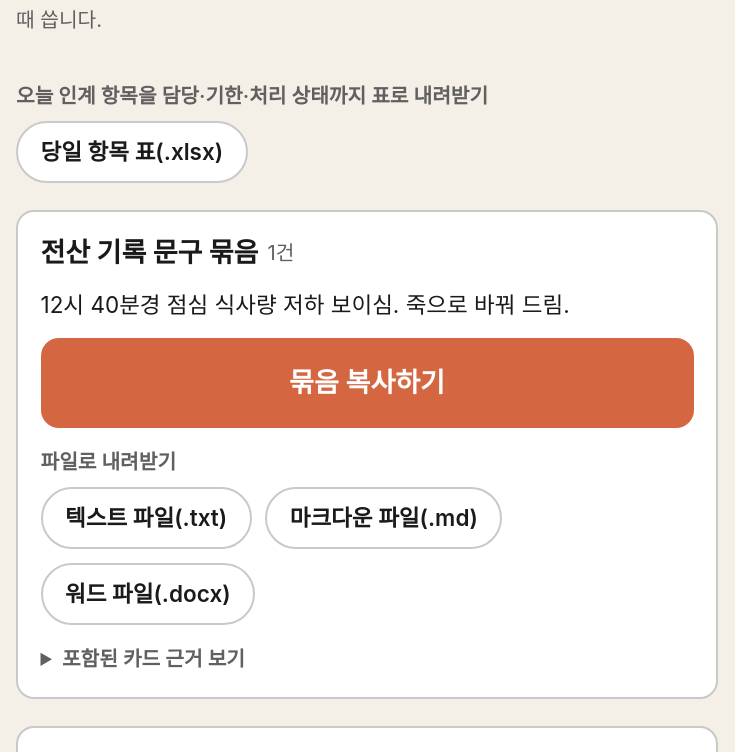
Test: 기록·보호자 전달 문구 화면 (n36~n40) › 어르신 당일 묶음을 함께 보여 주고 카드 문구와 따로 복사할 수 있다
(page scrolled)
Expected: the heading "전산 기록 문구 묶음" is shown, x1=40 y1=235 x2=258 y2=271
Click the button "묶음 복사하기". click: (367, 383)
box: x1=40 y1=338 x2=694 y2=428
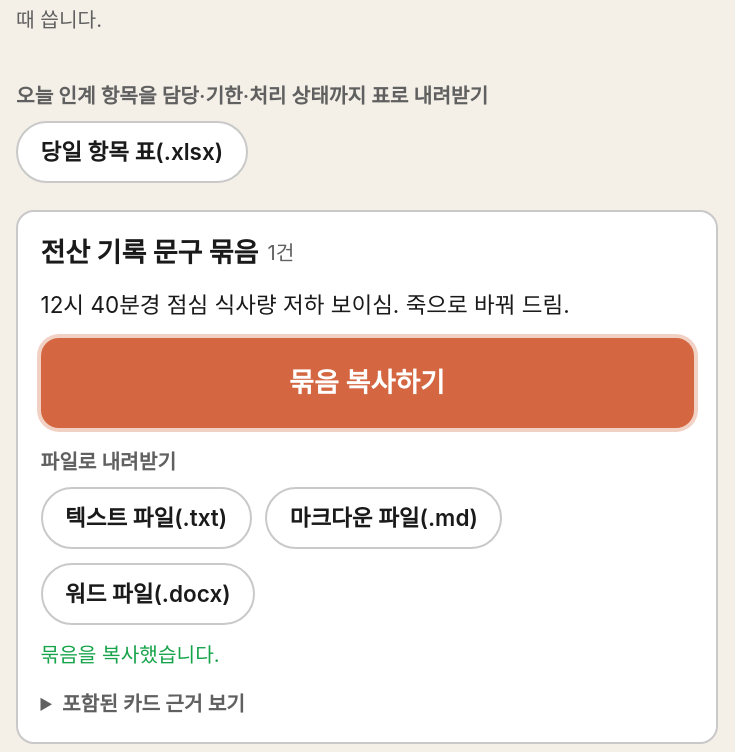
Result: the text "묶음을 복사했습니다." is shown at x1=40 y1=642 x2=220 y2=667
